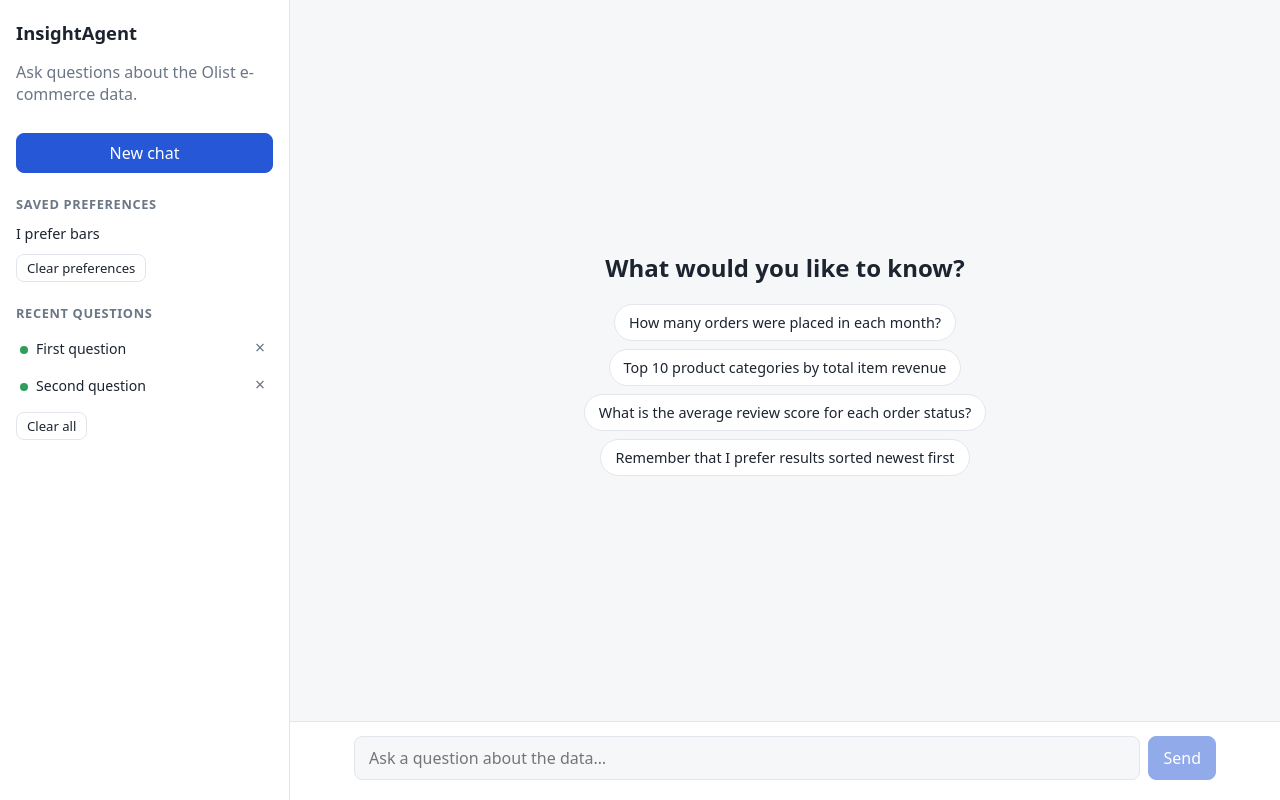
Test case: deletes one question from the recent list
Click the button named "Delete \"First question\"": (260, 347) [247,333,273,362]
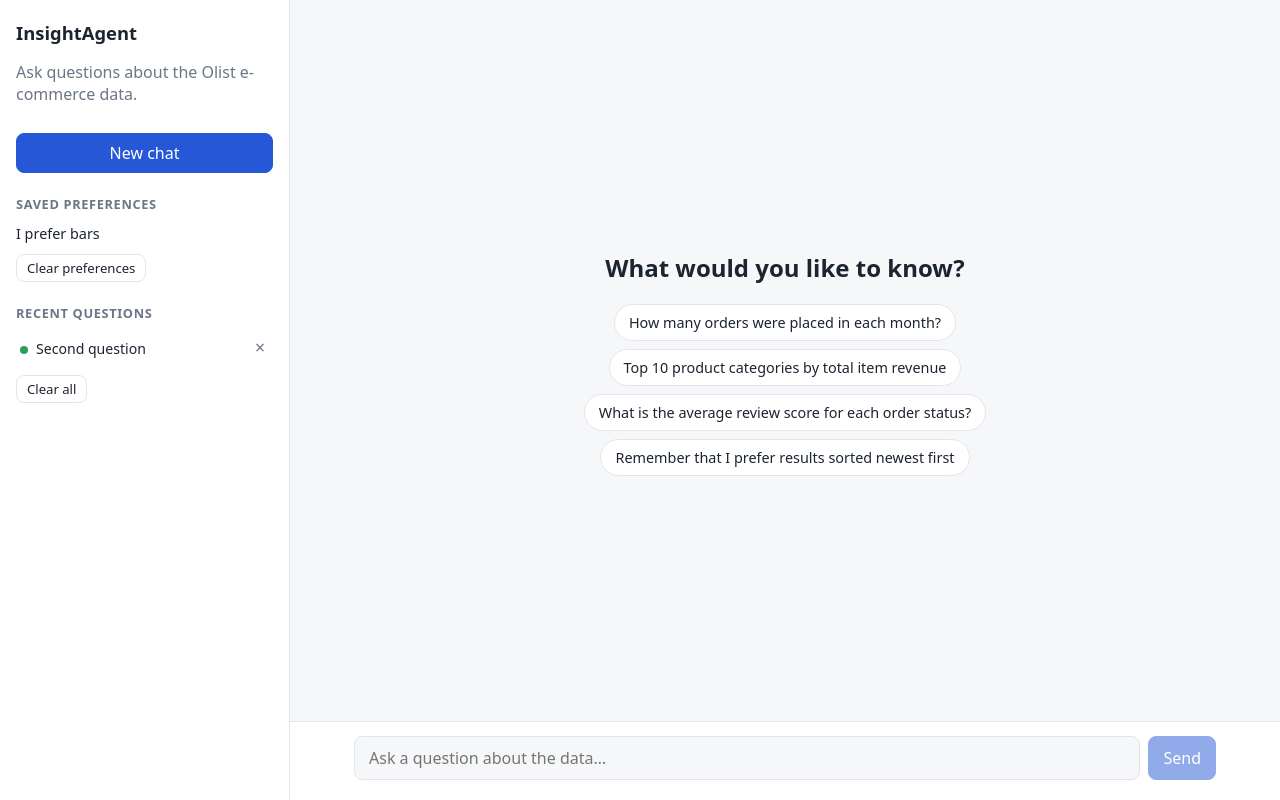
Expected: the button "Second question" is shown, [16,333,245,364]
Expected: the button "First question" is gone
